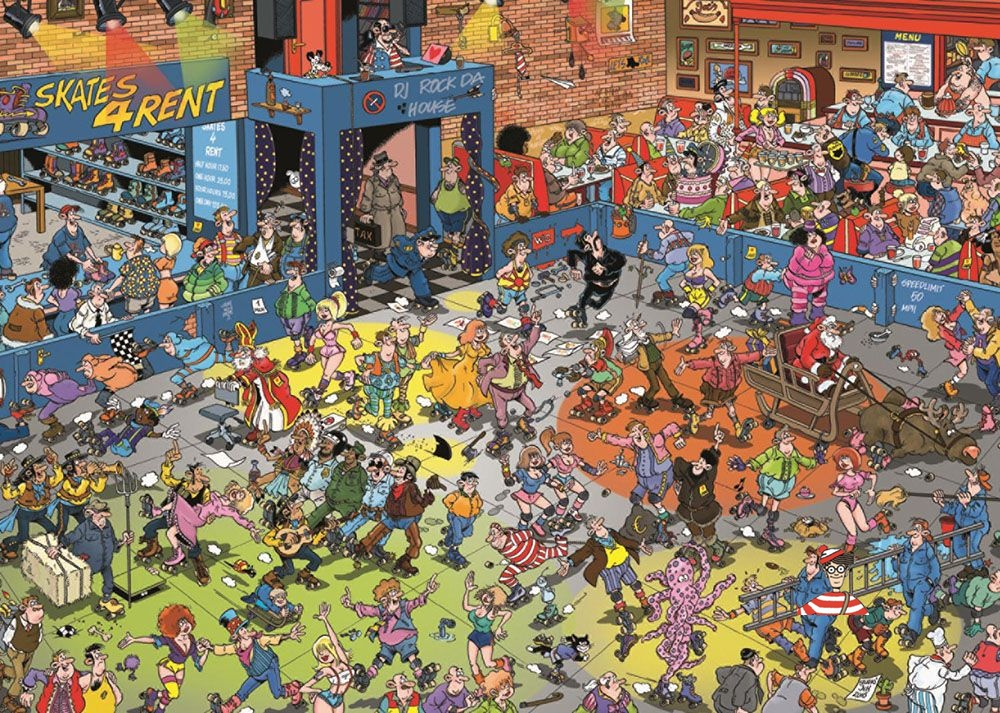waldo: (797, 543, 869, 615)
